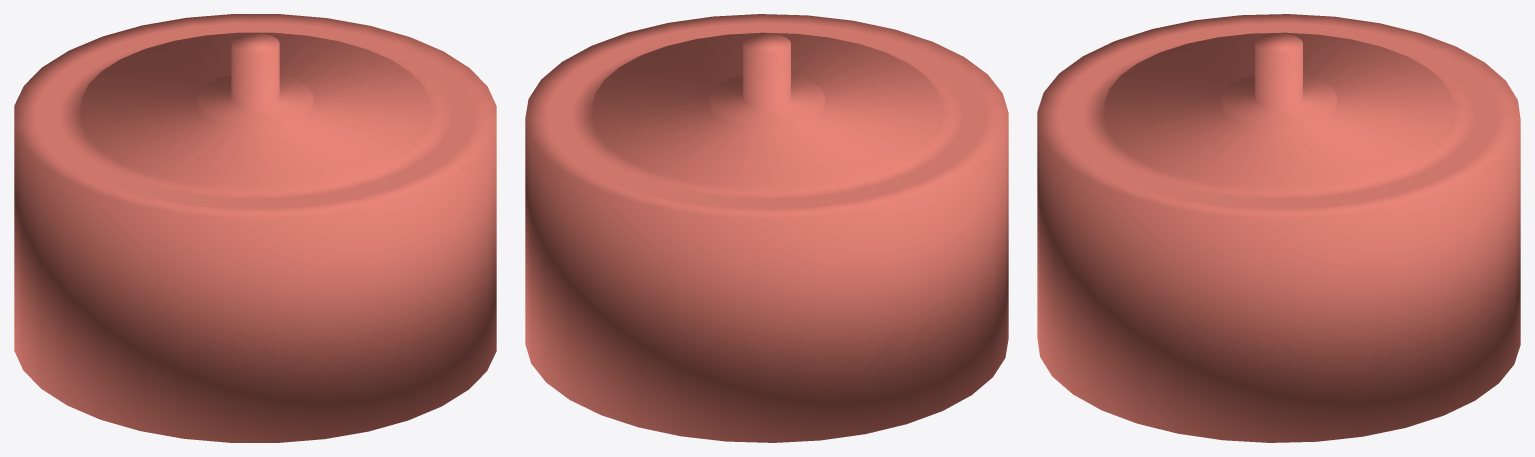
File: circle.009_lev3.glb
3 renders of one model, left to right at view 1: azimuth 30°, elevation 25°; view 2: azimuth 150°, elevation 25°; view 3: azimuth 270°, elevation 25°, orthographic.
Parts seen in each view (by area): view 1: circle.009_lev3; view 2: circle.009_lev3; view 3: circle.009_lev3.
Boxes of the visible parts, x1=… form: circle.009_lev3: x1=14, y1=14, x2=496, y2=442; circle.009_lev3: x1=525, y1=14, x2=1008, y2=442; circle.009_lev3: x1=1037, y1=14, x2=1520, y2=442.
Size of the model in its own units: 0.0611 by 0.0414 by 0.0611.
